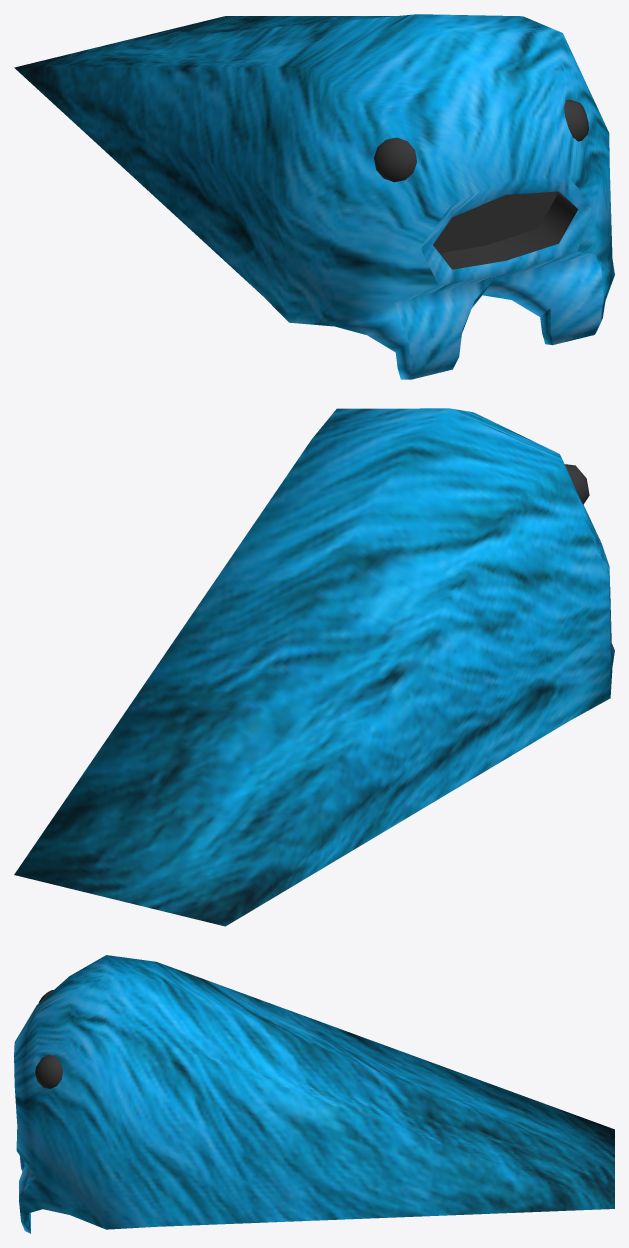
The model's file is furryBlue.fbx.
The picture shows the model from 3 angles, top to bottom: view 1: azimuth 30°, elevation 25°; view 2: azimuth 150°, elevation 25°; view 3: azimuth 270°, elevation 25°; orthographic projection. The views are drawn at different scales.
Parts seen in each view (by area): view 1: polySurface50; view 2: polySurface50; view 3: polySurface50.
Boxes of the visible parts, left/top/right/bottom form: polySurface50: left=14, top=14, right=614, bottom=379; polySurface50: left=14, top=408, right=614, bottom=926; polySurface50: left=14, top=955, right=614, bottom=1233.
Size of the model in its own units: 1.22 by 1.04 by 2.57.
